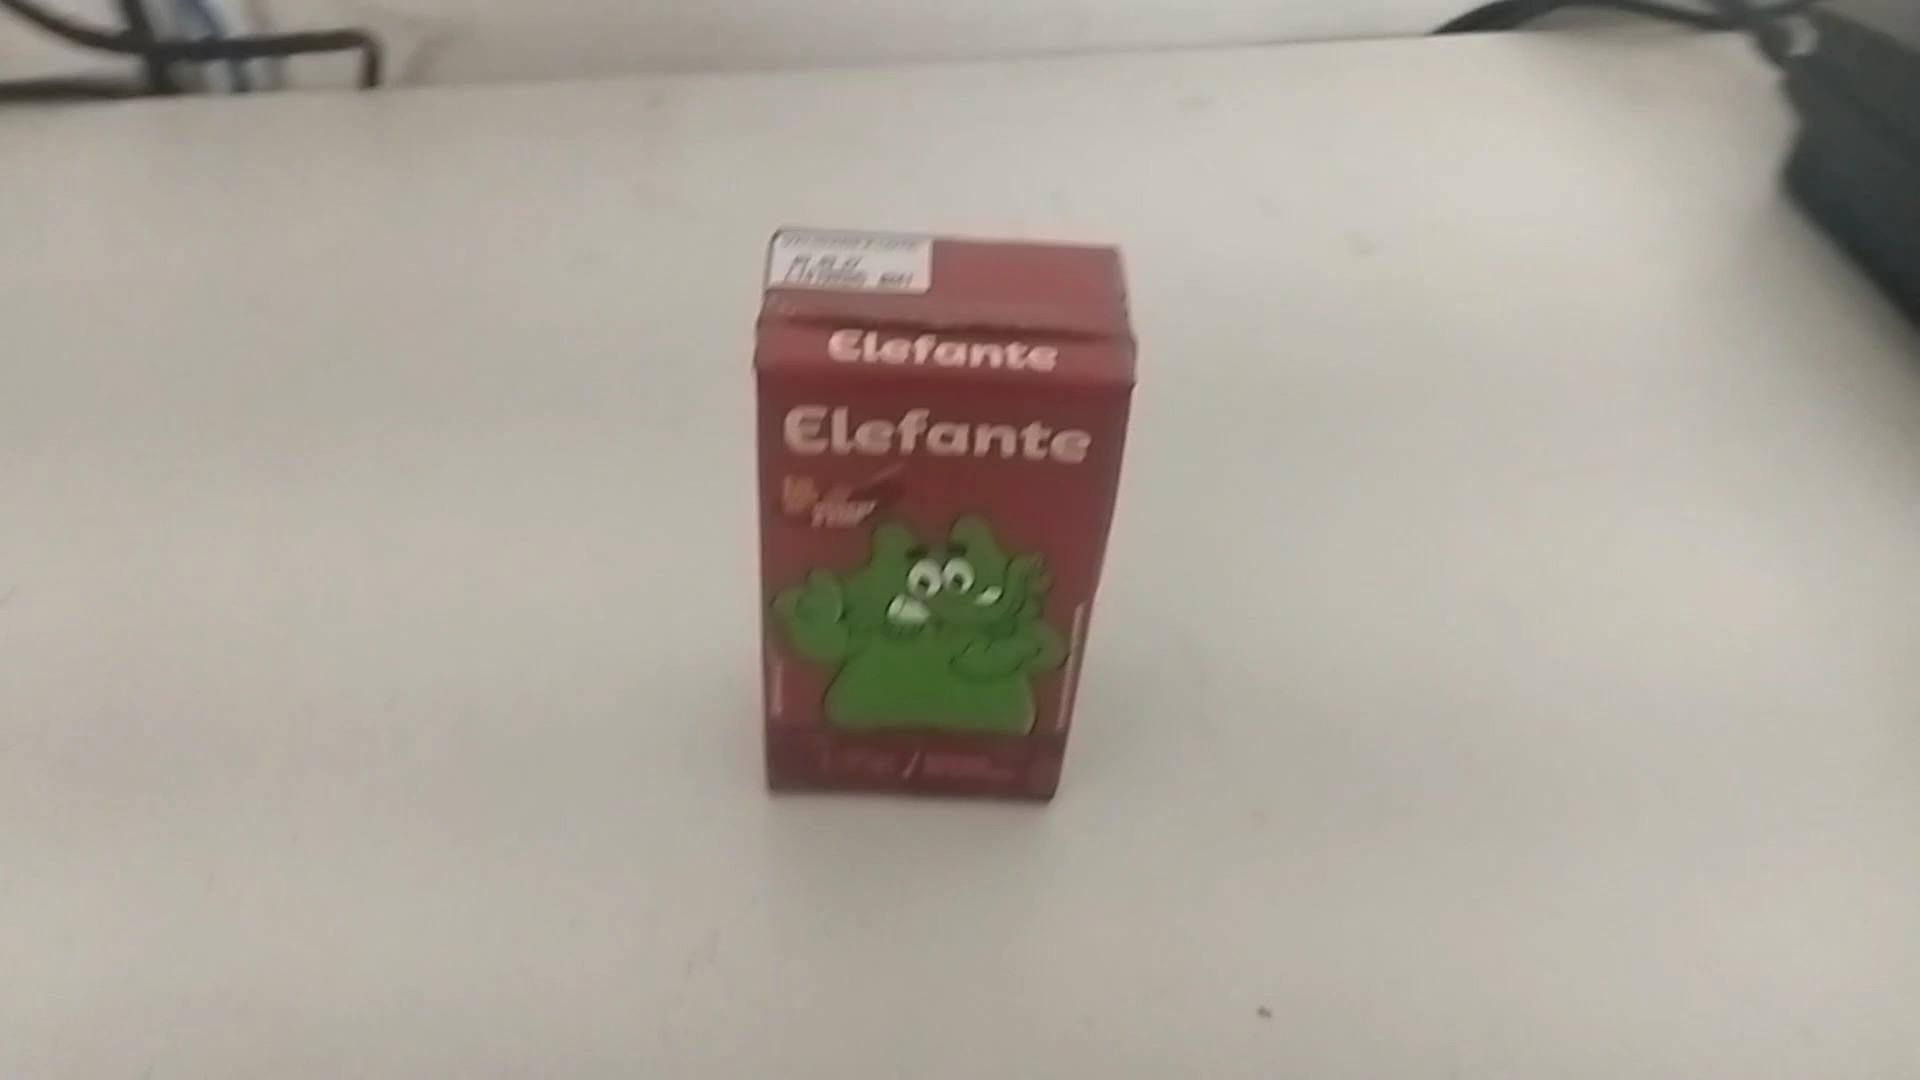tomate: (740, 216, 1154, 810)
